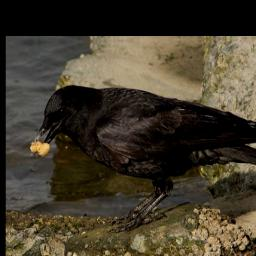Crow: (30, 79, 256, 234)
